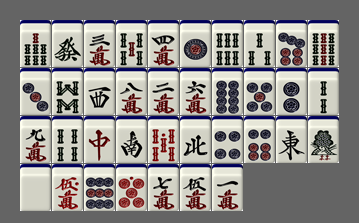0m: (52, 164, 83, 211)
0p: (116, 164, 147, 211)
0s: (148, 116, 179, 163)
1m: (212, 164, 243, 211)
1p: (180, 20, 211, 67)
1s: (308, 116, 339, 163)
1z: (276, 116, 307, 163)
2m: (148, 68, 179, 115)
2p: (276, 68, 307, 115)
2s: (308, 68, 339, 115)
2z: (116, 116, 147, 163)
3m: (84, 20, 115, 67)
3p: (20, 68, 51, 115)
3s: (244, 20, 275, 67)
3z: (84, 68, 115, 115)
4m: (148, 20, 179, 67)
4p: (212, 116, 243, 163)
4s: (52, 116, 83, 163)
4z: (180, 116, 211, 163)
5m: (180, 164, 211, 211)
5p: (244, 68, 275, 115)
5s: (116, 20, 147, 67)
5z: (20, 164, 51, 211)
6m: (180, 68, 211, 115)
6p: (244, 116, 275, 163)
6s: (212, 20, 243, 67)
6z: (52, 20, 83, 67)
7m: (148, 164, 179, 211)
7p: (276, 20, 307, 67)
7s: (20, 20, 51, 67)
7z: (84, 116, 115, 163)
8m: (116, 68, 147, 115)
8p: (212, 68, 243, 115)
8s: (52, 68, 83, 115)
9m: (20, 116, 51, 163)
9p: (84, 164, 115, 211)
9s: (308, 20, 339, 67)
